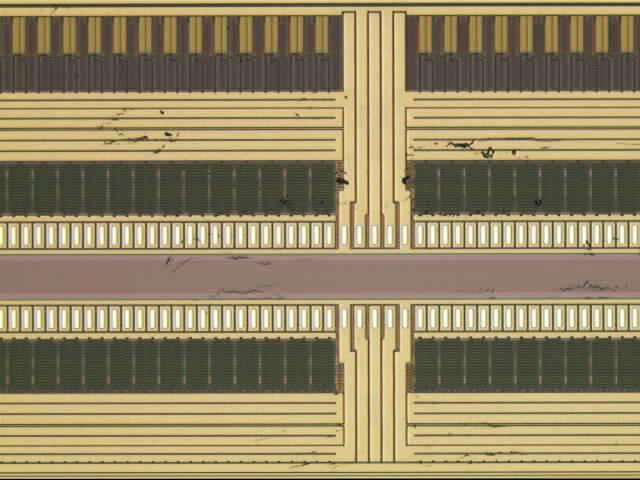PO CONTAMINATION: (94, 90, 626, 475)
